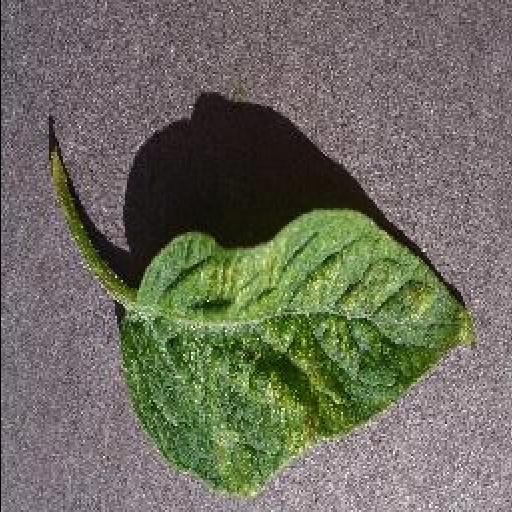disease_tomato: (120, 208, 476, 496)
